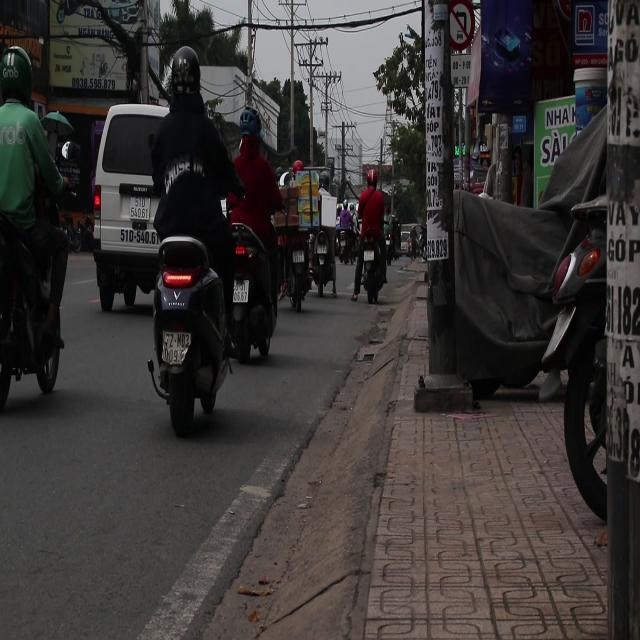car: (92, 104, 168, 316)
motorbike: (0, 157, 74, 432), (147, 236, 234, 434), (228, 220, 278, 360), (352, 218, 392, 314), (280, 227, 315, 312)
